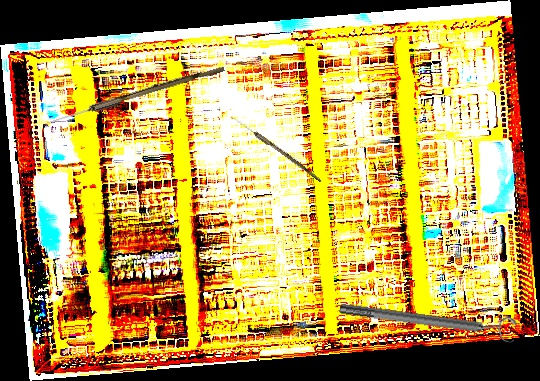Fixation Ring: (337, 292, 519, 347)
Surgical Spoon: (44, 62, 225, 129), (229, 114, 324, 183)
